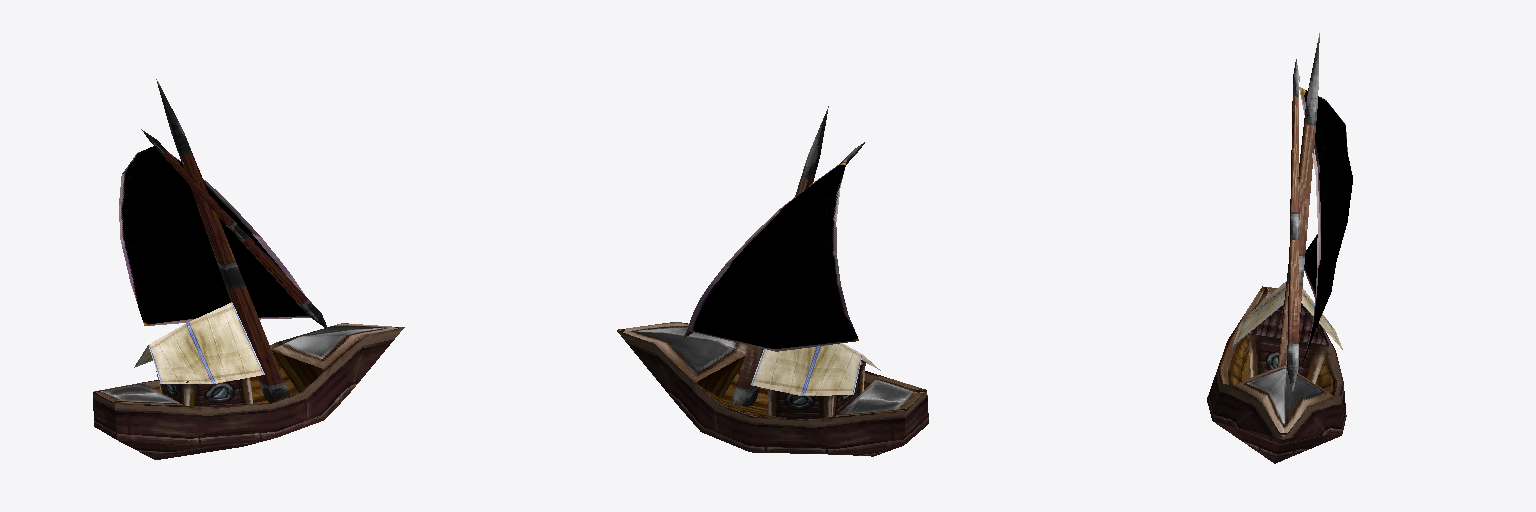
The picture shows the model from 3 angles: view 1: azimuth 30°, elevation 25°; view 2: azimuth 150°, elevation 25°; view 3: azimuth 270°, elevation 25°; orthographic projection.
Parts seen in each view (by area): view 1: HumanTransportShip(m0); view 2: HumanTransportShip(m0); view 3: HumanTransportShip(m0).
Boxes of the visible parts, box(x1,y1,x2,y2) form: HumanTransportShip(m0): box(93, 79, 404, 459); HumanTransportShip(m0): box(617, 106, 928, 456); HumanTransportShip(m0): box(1207, 33, 1352, 463).
Size of the model in its own units: 12.56 by 14.75 by 5.3.
Materials: 1 (1 with a texture image).